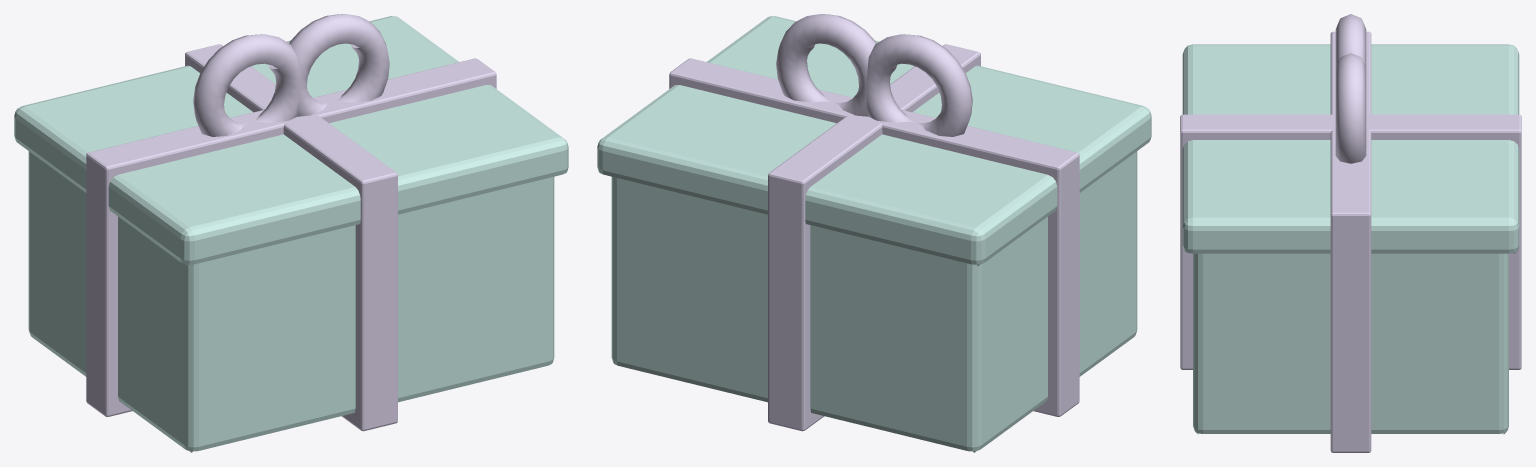
File: box_mint.glb
The picture shows the model from 3 angles, left to right: view 1: azimuth 30°, elevation 25°; view 2: azimuth 150°, elevation 25°; view 3: azimuth 270°, elevation 25°; orthographic projection. The views are drawn at different scales.
Visible parts, largest first — view 1: box_mint_mint, box_mint_lilac; view 2: box_mint_mint, box_mint_lilac; view 3: box_mint_mint, box_mint_lilac.
Boxes of the visible parts, x1,y1,x2,y2 form: box_mint_mint: [14, 16, 568, 452]; box_mint_lilac: [86, 14, 496, 431]; box_mint_mint: [597, 16, 1151, 452]; box_mint_lilac: [669, 14, 1079, 431]; box_mint_mint: [1182, 44, 1519, 434]; box_mint_lilac: [1180, 14, 1521, 452].
Size of the model in its own units: 0.85 by 0.6985 by 0.67.
